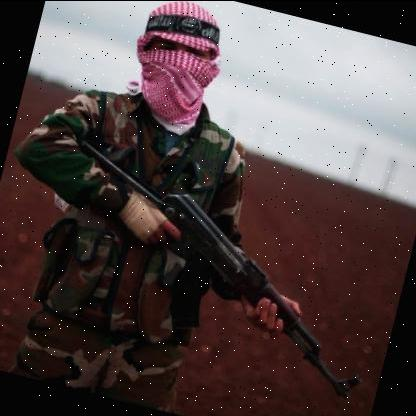rifle: (35, 136, 400, 404)
